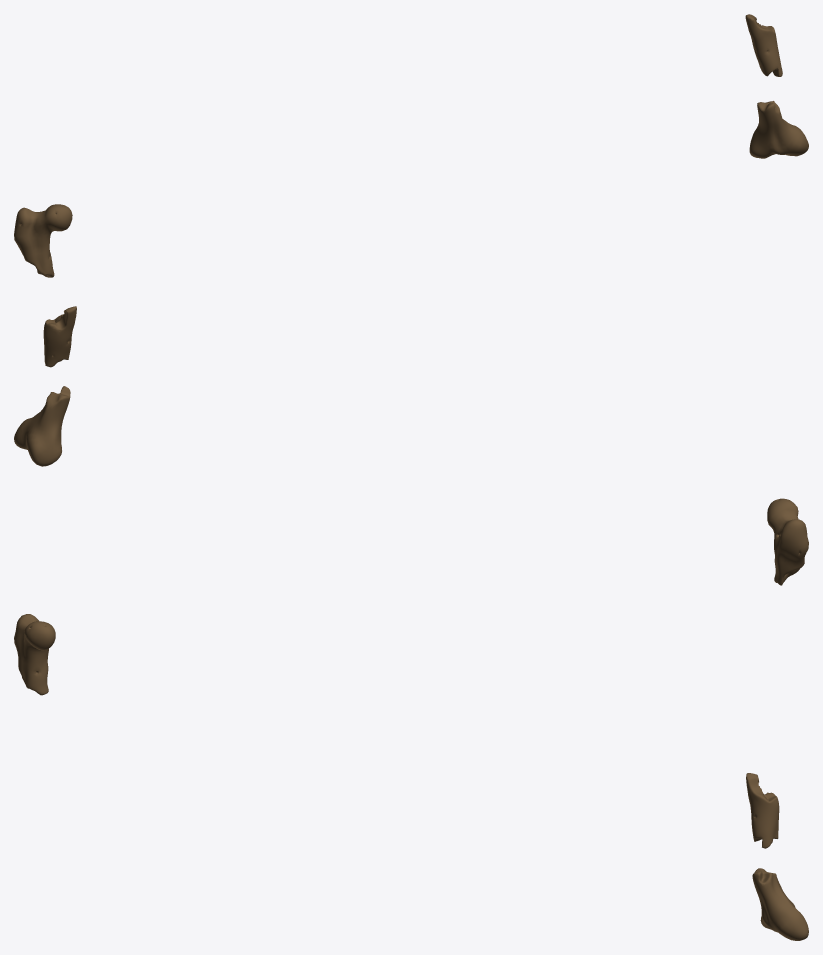
The model's file is osso.gltf.
The picture shows the model from 3 angles, top to bottom: view 1: azimuth 30°, elevation 25°; view 2: azimuth 150°, elevation 25°; view 3: azimuth 330°, elevation 25°; orthographic projection. The views are drawn at different scales.
Visible parts, largest first — view 1: osso parte 1, osso parte 3, osso parte 2; view 2: osso parte 3, osso parte 1, osso parte 2; view 3: osso parte 1, osso parte 3, osso parte 2.
Part boxes in pixels (x1,y1,x2,y2): osso parte 1: (14, 204, 72, 277); osso parte 3: (749, 101, 808, 158); osso parte 2: (745, 14, 782, 76); osso parte 3: (14, 386, 70, 466); osso parte 1: (767, 498, 808, 585); osso parte 2: (43, 306, 76, 367); osso parte 1: (14, 614, 55, 695); osso parte 3: (752, 868, 808, 940); osso parte 2: (746, 773, 779, 848).
Size of the model in its own units: 69.81 by 13 by 3.93.
